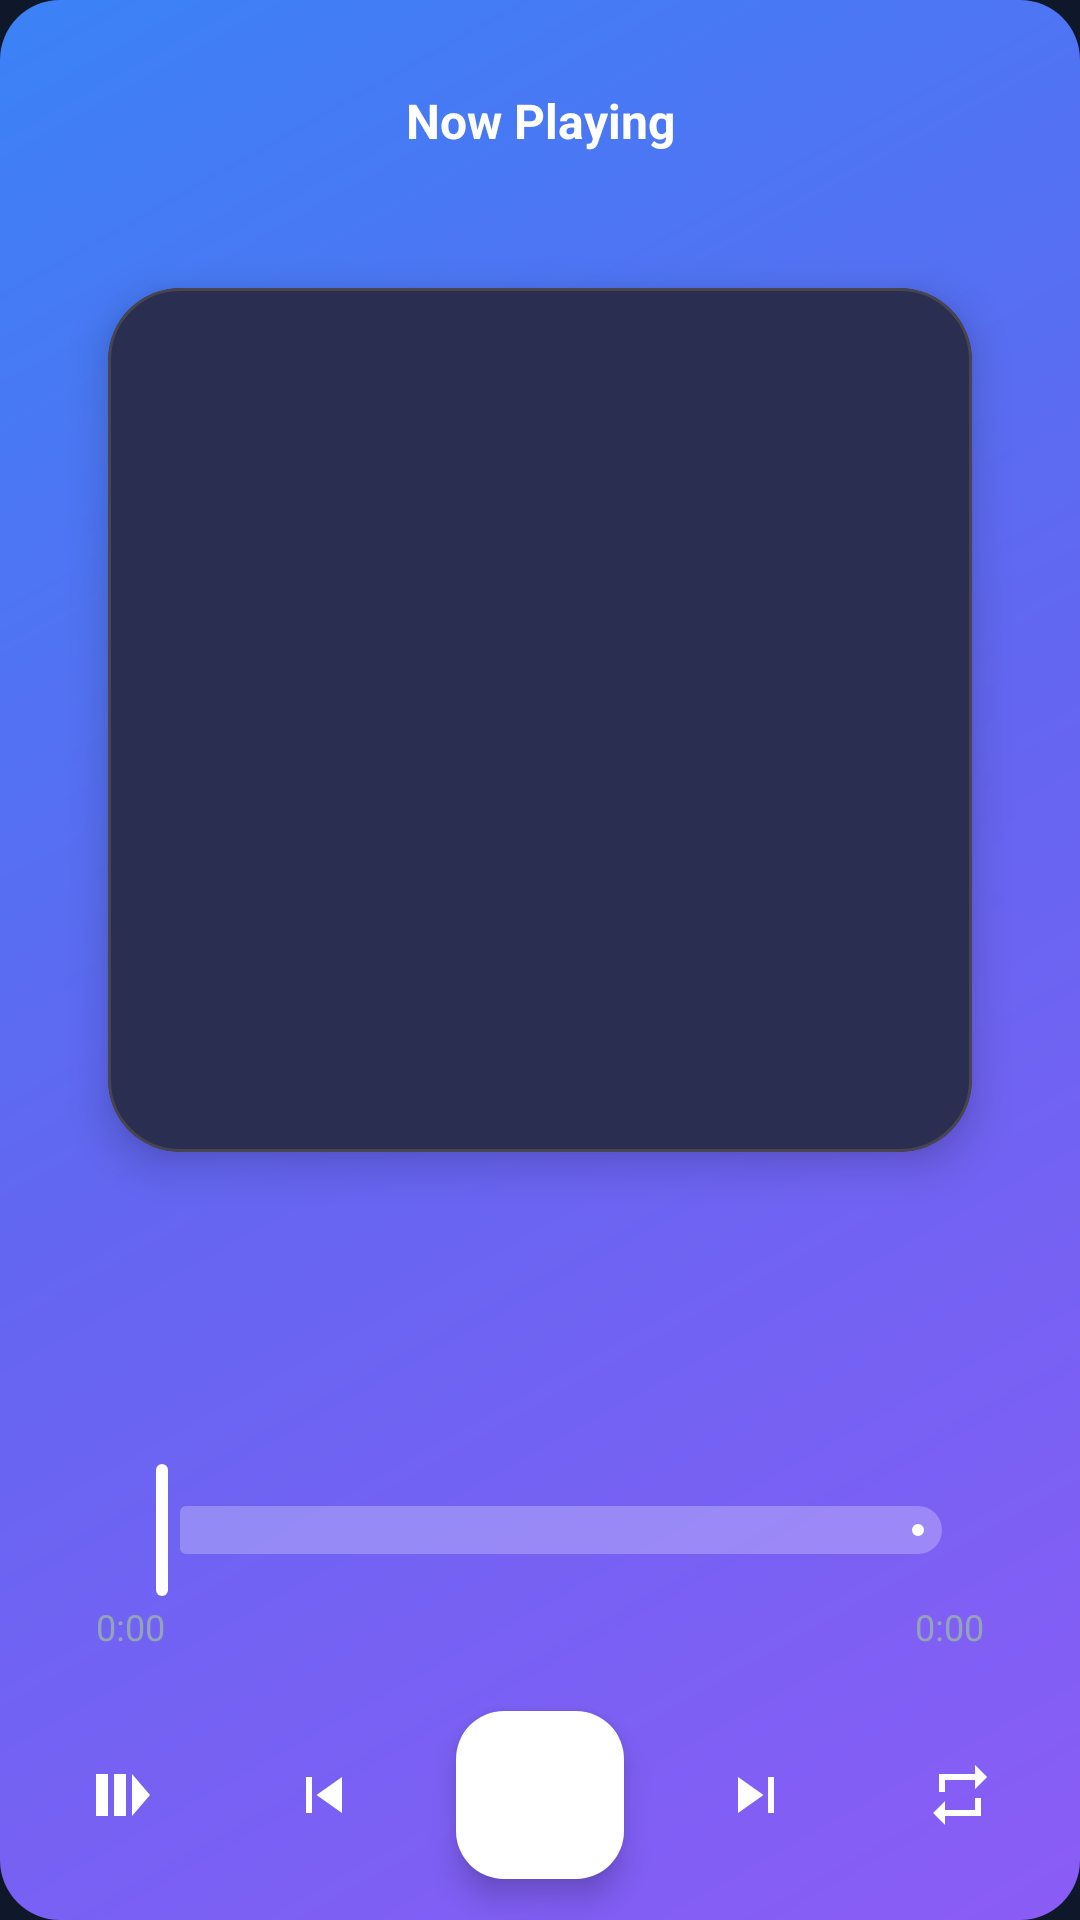

Icons on this 1080*1920 Android screen, each with the point to tap as (x=x, y=y):
Next: (x=756, y=1795)
Previous: (x=324, y=1795)
Repeat: (x=960, y=1795)
